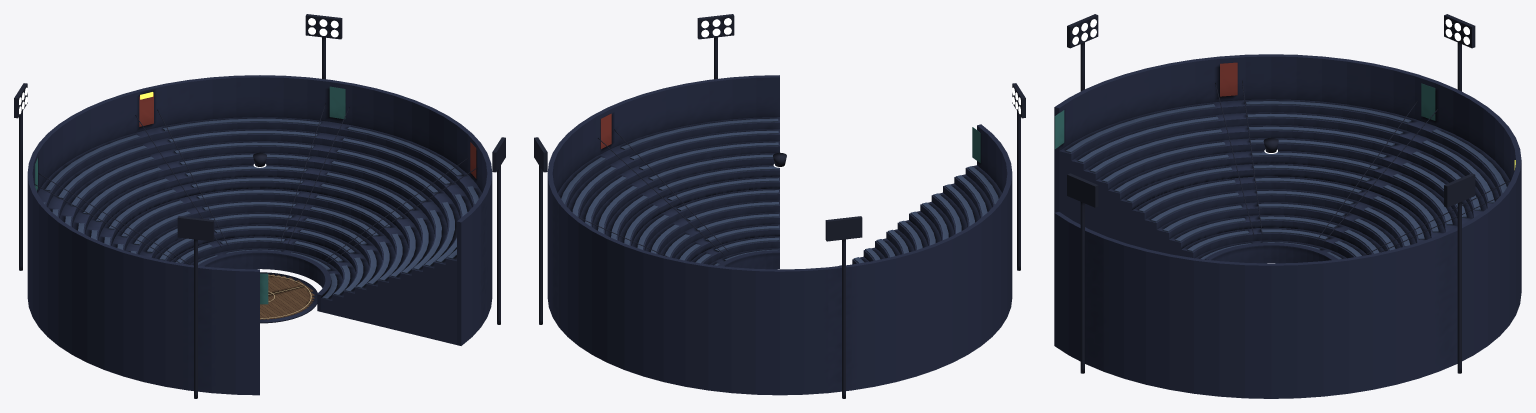
The model's file is set_stadium.glb.
3 views of the same model, side by side, from view 1: azimuth 30°, elevation 25°; view 2: azimuth 150°, elevation 25°; view 3: azimuth 270°, elevation 25° (orthographic). The views are drawn at different scales.
Visible parts, largest first — view 1: wall_back, tier.011, tier.010, tier.009, tier.008, tier.007, tier.006, tier.005, tier.004, tier.003, tier.002, tier.001 (+26 smaller); view 2: wall_back, tier.011, tier.010, tier.009, tier.008, tier.007, tier.006, tier.005, tier.004, tier.003, tier.002, tier.001 (+13 smaller); view 3: wall_back, tier.011, tier.010, tier.009, tier.008, tier.007, tier.006, tier.005, tier.004, tier.003, tier.002, tier.001 (+31 smaller).
Boxes of the visible parts, x1=… form: wall_back: x1=27, y1=75, x2=492, y2=395; tier.011: x1=37, y1=117, x2=482, y2=344; tier.010: x1=48, y1=129, x2=471, y2=342; tier.009: x1=59, y1=141, x2=460, y2=339; tier.008: x1=72, y1=153, x2=447, y2=336; tier.007: x1=85, y1=165, x2=434, y2=333; tier.006: x1=98, y1=176, x2=421, y2=330; tier.005: x1=111, y1=188, x2=408, y2=328; tier.004: x1=125, y1=200, x2=395, y2=325; tier.003: x1=139, y1=212, x2=382, y2=322; tier.002: x1=155, y1=224, x2=369, y2=319; tier.001: x1=171, y1=236, x2=355, y2=317; wall_back: x1=547, y1=75, x2=1012, y2=395; tier.011: x1=557, y1=117, x2=1002, y2=207; tier.010: x1=568, y1=129, x2=991, y2=218; tier.009: x1=580, y1=141, x2=980, y2=226; tier.008: x1=592, y1=153, x2=967, y2=234; tier.007: x1=605, y1=165, x2=954, y2=240; tier.006: x1=618, y1=176, x2=941, y2=245; tier.005: x1=631, y1=188, x2=928, y2=250; tier.004: x1=645, y1=200, x2=914, y2=254; tier.003: x1=659, y1=212, x2=900, y2=258; tier.002: x1=675, y1=224, x2=884, y2=261; tier.001: x1=691, y1=236, x2=868, y2=264; wall_back: x1=1054, y1=54, x2=1521, y2=398; tier.011: x1=1059, y1=99, x2=1510, y2=219; tier.010: x1=1071, y1=112, x2=1499, y2=224; tier.009: x1=1083, y1=125, x2=1486, y2=231; tier.008: x1=1095, y1=138, x2=1472, y2=236; tier.007: x1=1108, y1=151, x2=1457, y2=240; tier.006: x1=1120, y1=163, x2=1444, y2=244; tier.005: x1=1132, y1=176, x2=1430, y2=248; tier.004: x1=1144, y1=189, x2=1415, y2=251; tier.003: x1=1156, y1=202, x2=1400, y2=253; tier.002: x1=1169, y1=215, x2=1384, y2=255; tier.001: x1=1181, y1=227, x2=1366, y2=258.
Bounding box in the file's own units: 27.72 × 11.89 × 25.86.
